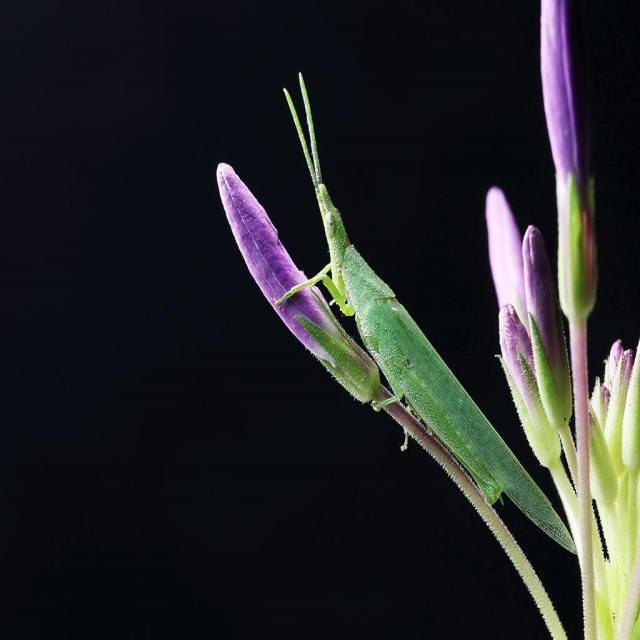ZhaMeng: (264, 57, 588, 580)
